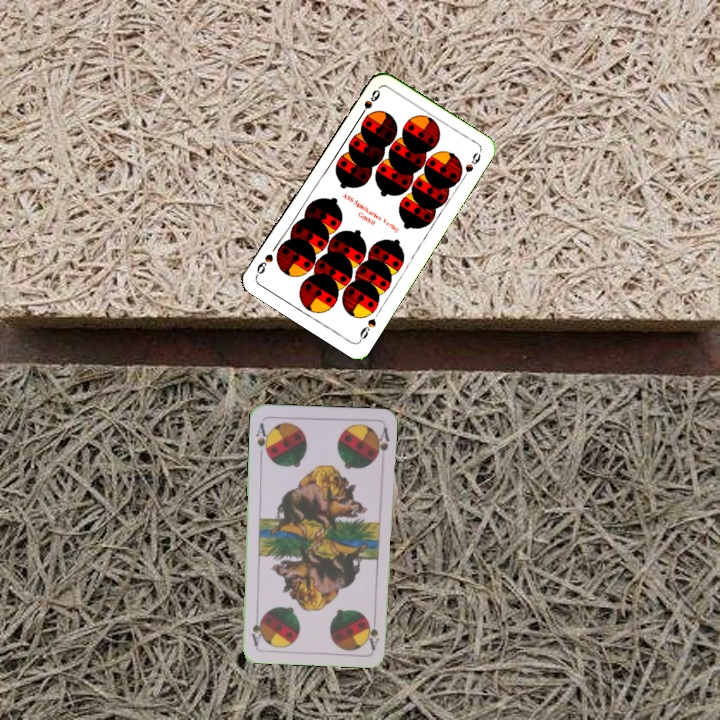S9: (355, 85, 383, 121), (355, 314, 379, 344)
SA: (252, 419, 272, 459), (364, 611, 381, 652)
